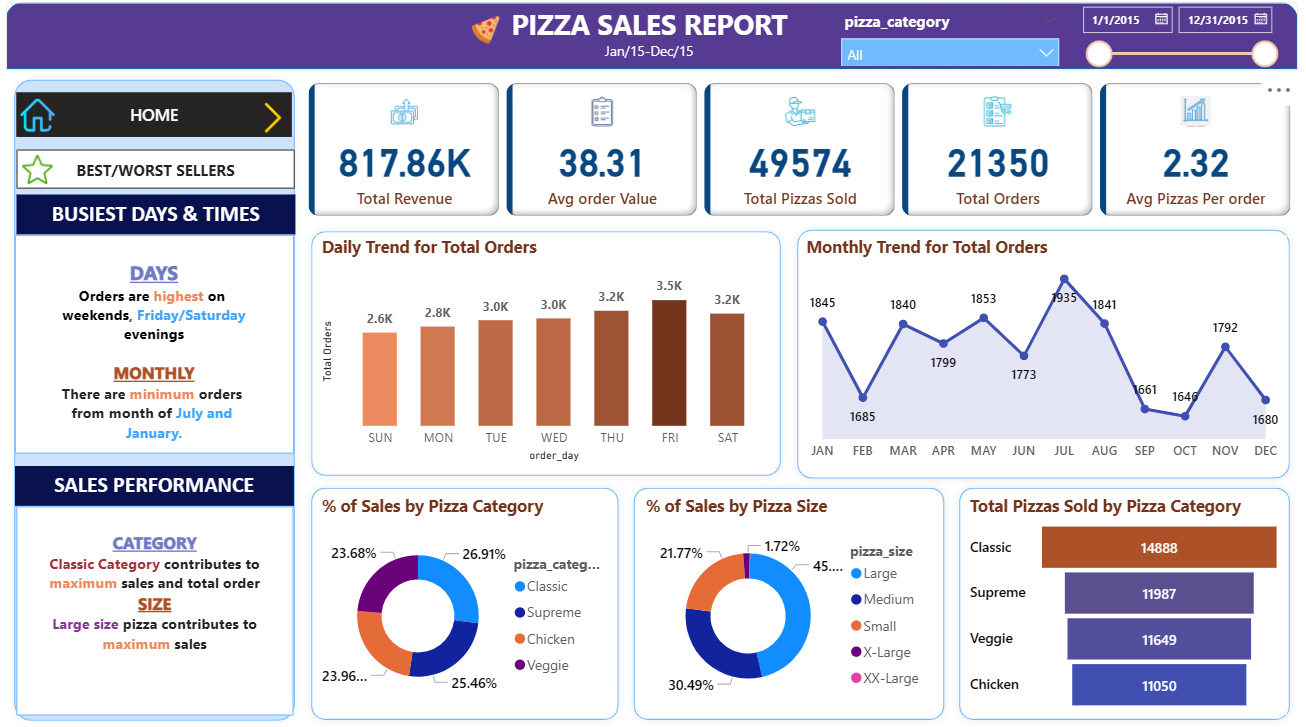

The dashboard page shown, as its layout file describes it:
{"tool":"powerbi","page":{"name":"HOME","canvas":[1280,720],"ordinal":0},"visuals":[{"type":"shape","box":[14.6,82.6,288.2,638],"z":0},{"type":"cardVisual","fields":{"Data":["pizzadb pizza_sales_dup.Total Revenue","pizzadb pizza_sales_dup.Avg order Value","pizzadb pizza_sales_dup.Total Pizzas Sold","pizzadb pizza_sales_dup.Total Orders","pizzadb pizza_sales_dup.Avg Pizzas Per order"]},"box":[302.8,89.1,965.1,139.3],"z":1000},{"type":"shape","box":[14.6,16.2,1253.3,64.8],"z":2000},{"type":"textbox","box":[488.6,12.9,307.1,48.6],"z":3000},{"type":"textbox","box":[584.3,48.6,110,40],"z":4000},{"type":"image","box":[460,22.9,40,38.6],"z":5000},{"type":"shape","box":[302.8,230,471.6,253.3],"z":6000},{"type":"columnChart","title":"Daily Trend for Total Orders","fields":{"Category":["pizzadb pizza_sales_dup.Order_day"],"Y":["pizzadb pizza_sales_dup.Total Orders"]},"box":[315.9,241.6,443.9,224.2],"z":7000},{"type":"shape","box":[774,228.3,493.9,257.5],"z":8000},{"type":"areaChart","title":"Monthly Trend for Total Orders","fields":{"Category":["pizzadb pizza_sales_dup.order_month"],"Y":["pizzadb pizza_sales_dup.Total Orders"]},"box":[785.3,241.3,471.2,226.7],"z":9000},{"type":"shape","box":[302.8,479.3,314.1,241.3],"z":10000},{"type":"shape","box":[615.3,479.3,317.4,241.3],"z":11000},{"type":"shape","box":[931.1,479.3,336.8,241.3],"z":12000},{"type":"donutChart","title":"% of Sales by Pizza Category","fields":{"Category":["pizzadb pizza_sales_dup.pizza_category"],"Y":["pizzadb pizza_sales_dup.Total Revenue"]},"box":[315.7,493.9,288.2,213.7],"z":13000},{"type":"donutChart","title":"% of Sales by Pizza Size","fields":{"Y":["pizzadb pizza_sales_dup.Total Revenue"],"Category":["pizzadb pizza_sales_dup.pizza_size"]},"box":[629.9,493.9,288.2,213.7],"z":14000},{"type":"funnel","title":"Total Pizzas Sold by Pizza Category","fields":{"Y":["pizzadb pizza_sales_dup.Total Pizzas Sold"],"Category":["pizzadb pizza_sales_dup.pizza_category"]},"box":[944,493.9,312.5,213.7],"z":15000},{"type":"textbox","box":[24.3,202.4,270.4,38.9],"z":16000},{"type":"textbox","box":[22.7,241.3,270.4,212.1],"z":17000},{"type":"textbox","box":[22.7,466.3,270.4,38.9],"z":18000},{"type":"textbox","box":[24.3,505.2,268.8,202.4],"z":19000},{"type":"slicer","fields":{"Values":["pizzadb pizza_sales_dup.pizza_category"]},"box":[815,18.8,231.2,58.8],"z":20000},{"type":"slicer","fields":{"Values":["pizzadb pizza_sales_dup.order_date"]},"box":[1046,9.7,210.5,76.1],"z":21000},{"type":"pageNavigator","box":[24.7,103.3,267.8,43.7],"z":22000},{"type":"pageNavigator","box":[24.3,158.7,270.4,38.9],"z":23000},{"type":"image","box":[252.6,105.2,40.5,45.3],"z":24000},{"type":"image","box":[14.6,103.6,61.5,43.7],"z":25000},{"type":"image","box":[24.3,153.8,40.5,47],"z":26000}]}

Visuals, with their boxes in screenshot pixels (x1, y1, x2, y2), scaled from the page's 1280x720 canvas onto the 1306x727 screenshot:
shape: [left=15, top=83, right=309, bottom=726]
cardVisual - pizzadb pizza_sales_dup.Total Revenue x pizzadb pizza_sales_dup.Avg order Value: [left=309, top=90, right=1294, bottom=231]
shape: [left=15, top=16, right=1294, bottom=82]
textbox: [left=499, top=13, right=812, bottom=62]
textbox: [left=596, top=49, right=708, bottom=89]
image: [left=469, top=23, right=510, bottom=62]
shape: [left=309, top=232, right=790, bottom=488]
"Daily Trend for Total Orders" columnChart: [left=322, top=244, right=775, bottom=470]
shape: [left=790, top=231, right=1294, bottom=491]
"Monthly Trend for Total Orders" areaChart: [left=801, top=244, right=1282, bottom=473]
shape: [left=309, top=484, right=629, bottom=726]
shape: [left=628, top=484, right=952, bottom=726]
shape: [left=950, top=484, right=1294, bottom=726]
"% of Sales by Pizza Category" donutChart: [left=322, top=499, right=616, bottom=714]
"% of Sales by Pizza Size" donutChart: [left=643, top=499, right=937, bottom=714]
"Total Pizzas Sold by Pizza Category" funnel: [left=963, top=499, right=1282, bottom=714]
textbox: [left=25, top=204, right=301, bottom=244]
textbox: [left=23, top=244, right=299, bottom=458]
textbox: [left=23, top=471, right=299, bottom=510]
textbox: [left=25, top=510, right=299, bottom=714]
slicer - pizzadb pizza_sales_dup.pizza_category: [left=832, top=19, right=1067, bottom=78]
slicer - pizzadb pizza_sales_dup.order_date: [left=1067, top=10, right=1282, bottom=87]
pageNavigator: [left=25, top=104, right=298, bottom=148]
pageNavigator: [left=25, top=160, right=301, bottom=200]
image: [left=258, top=106, right=299, bottom=152]
image: [left=15, top=105, right=78, bottom=149]
image: [left=25, top=155, right=66, bottom=203]
